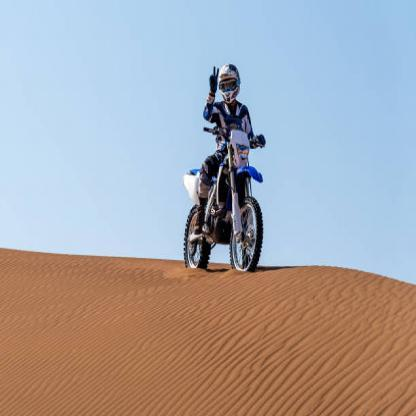Motorcycle: (176, 130, 270, 288)
